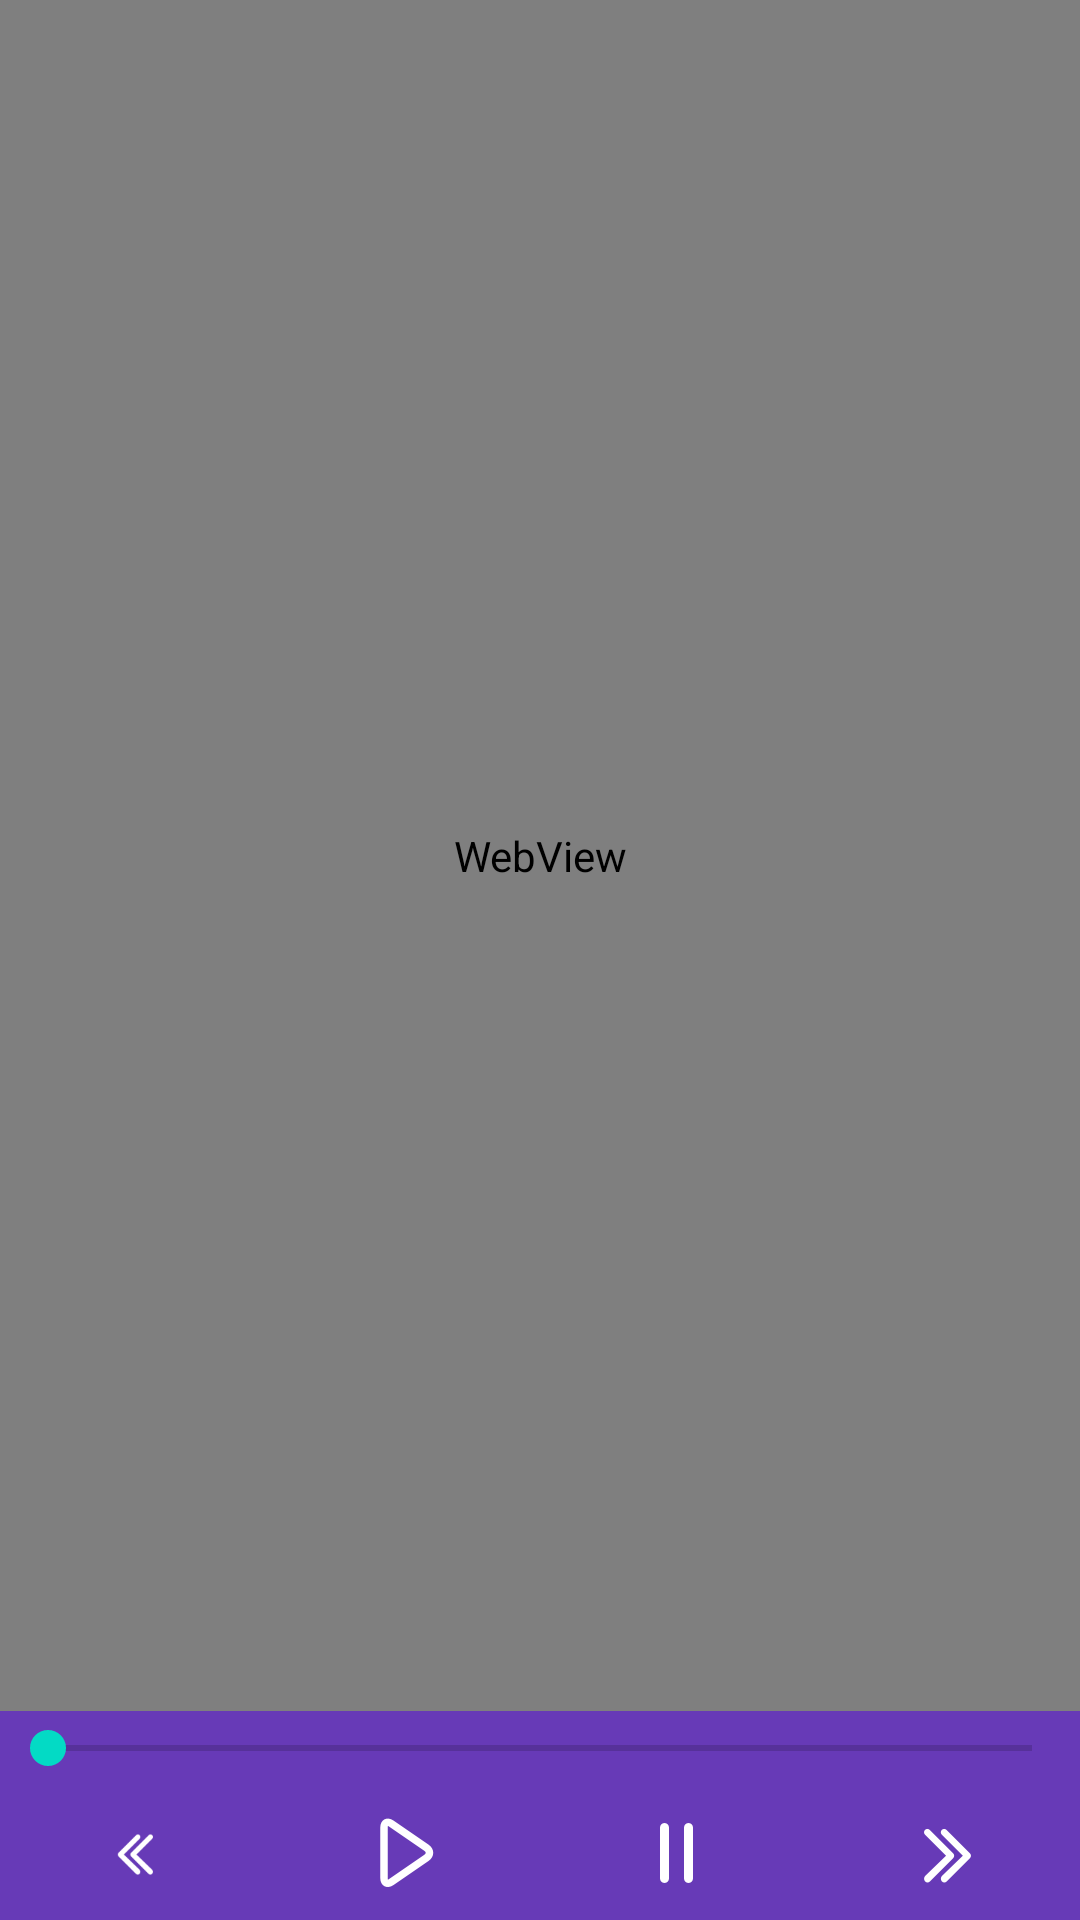

Icons on this 1080*1920 Android screen, each with its box as (x1, y1, x2, y2):
next: (924, 1829, 971, 1883)
pause: (660, 1823, 693, 1883)
play: (380, 1818, 434, 1887)
prev: (117, 1834, 153, 1875)
